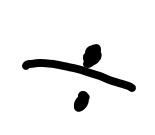div: (19, 44, 136, 110)
